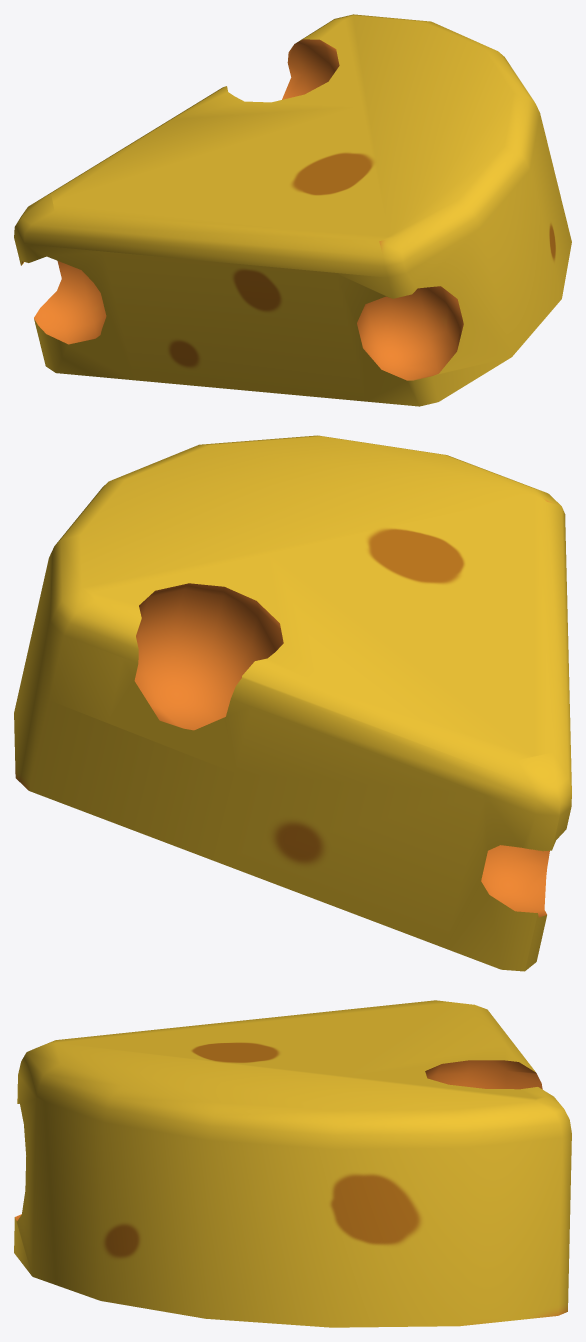
File: Co_the_cheese_revised.fbx
3 renders of one model, top to bottom at view 1: azimuth 30°, elevation 25°; view 2: azimuth 150°, elevation 25°; view 3: azimuth 270°, elevation 25°, orthographic. The views are drawn at different scales.
Visible parts, largest first — view 1: Cheese; view 2: Cheese; view 3: Cheese.
Part boxes in pixels (x1,y1,x2,y2): Cheese: (14,14,571,406); Cheese: (14,435,571,971); Cheese: (14,1000,571,1327).
Size of the model in its own units: 87.9 by 47.83 by 76.71.
1 material, 1 textured.
